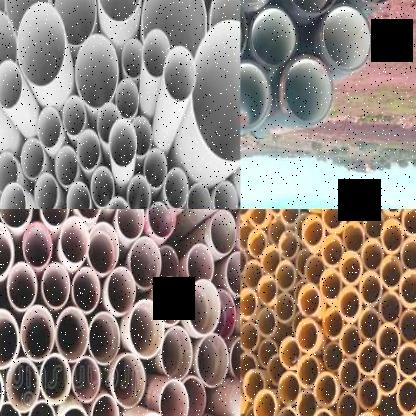pipe: (192, 21, 240, 163), (18, 2, 66, 87), (141, 0, 208, 59), (279, 56, 334, 127), (319, 3, 373, 73), (75, 34, 119, 109), (250, 6, 297, 67), (240, 60, 272, 130), (129, 299, 165, 359), (54, 0, 98, 48), (20, 305, 55, 362), (188, 278, 221, 336), (111, 352, 145, 408), (55, 307, 89, 363), (7, 357, 40, 413), (160, 325, 193, 381), (210, 0, 240, 61), (129, 236, 162, 290), (164, 46, 196, 101), (196, 334, 228, 387), (39, 354, 72, 405), (87, 222, 120, 273), (89, 311, 120, 365), (7, 262, 38, 311), (155, 276, 185, 326), (22, 222, 53, 269), (107, 266, 137, 314), (59, 216, 89, 263), (0, 8, 17, 90), (143, 29, 171, 78), (109, 119, 137, 167), (42, 262, 70, 309), (72, 357, 100, 403), (73, 266, 101, 312), (0, 308, 20, 369), (210, 210, 236, 256), (186, 243, 214, 285), (159, 378, 188, 416), (96, 0, 143, 23), (0, 60, 22, 108), (90, 166, 115, 208), (164, 168, 188, 209), (37, 107, 61, 148), (97, 102, 120, 144), (55, 146, 79, 186), (21, 139, 45, 179), (62, 96, 86, 136), (144, 148, 167, 189), (78, 128, 100, 170), (116, 79, 139, 119), (116, 209, 145, 239), (34, 173, 58, 209), (376, 360, 400, 396), (121, 38, 142, 79), (0, 221, 15, 278), (131, 117, 152, 157), (148, 209, 176, 239), (376, 323, 400, 358), (338, 286, 362, 321), (358, 271, 382, 306), (283, 0, 342, 14), (356, 341, 380, 375), (297, 354, 320, 389), (357, 377, 381, 410), (314, 373, 338, 406), (338, 324, 362, 357), (378, 291, 402, 324), (127, 175, 150, 209), (381, 218, 404, 252), (278, 372, 301, 405), (339, 251, 362, 284), (321, 233, 344, 266), (296, 317, 318, 351), (322, 307, 344, 341), (302, 214, 324, 248), (243, 370, 266, 402), (298, 283, 320, 316), (396, 378, 416, 414), (342, 221, 366, 251), (358, 308, 381, 339), (361, 239, 384, 270), (338, 359, 360, 391), (279, 337, 301, 369), (380, 256, 402, 288), (0, 182, 26, 209), (0, 152, 18, 191), (213, 180, 237, 209), (320, 268, 342, 299), (343, 220, 365, 251), (225, 251, 240, 296), (323, 340, 344, 372), (397, 343, 416, 378), (256, 307, 278, 337), (274, 293, 296, 323), (275, 260, 296, 291), (304, 254, 325, 285), (67, 181, 90, 209), (0, 209, 32, 229), (90, 394, 119, 416), (247, 229, 268, 259), (399, 269, 416, 306), (253, 390, 277, 416), (187, 182, 210, 209), (268, 355, 288, 386), (258, 274, 278, 305), (362, 209, 384, 237), (240, 321, 260, 351), (296, 390, 319, 416), (278, 230, 298, 259), (336, 392, 360, 416), (400, 236, 416, 272), (399, 309, 416, 342), (258, 340, 278, 368), (244, 260, 264, 288), (261, 244, 280, 273), (40, 209, 70, 227), (240, 288, 256, 319), (268, 218, 287, 244), (229, 336, 240, 380), (27, 400, 57, 416), (322, 209, 344, 230), (241, 352, 257, 380), (240, 221, 253, 251), (401, 209, 416, 235), (57, 405, 90, 416), (0, 400, 22, 416), (73, 209, 104, 220), (248, 209, 266, 227), (279, 209, 300, 224), (106, 197, 130, 209), (310, 407, 335, 416), (276, 406, 298, 416), (0, 362, 4, 416), (240, 248, 247, 276), (146, 201, 170, 209), (343, 209, 366, 217), (137, 412, 169, 416), (266, 209, 286, 215), (240, 338, 244, 364)
